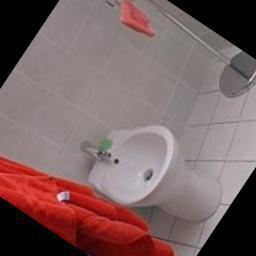Sanitario: (67, 93, 240, 252)
